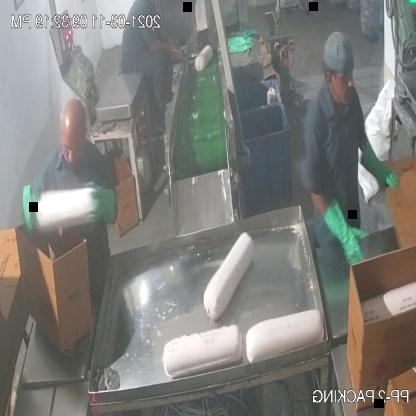glove: (326, 197, 369, 267), (358, 137, 398, 196), (88, 171, 121, 231)
no_glove: (145, 27, 181, 66)
